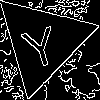Y: (18, 16, 62, 70)
